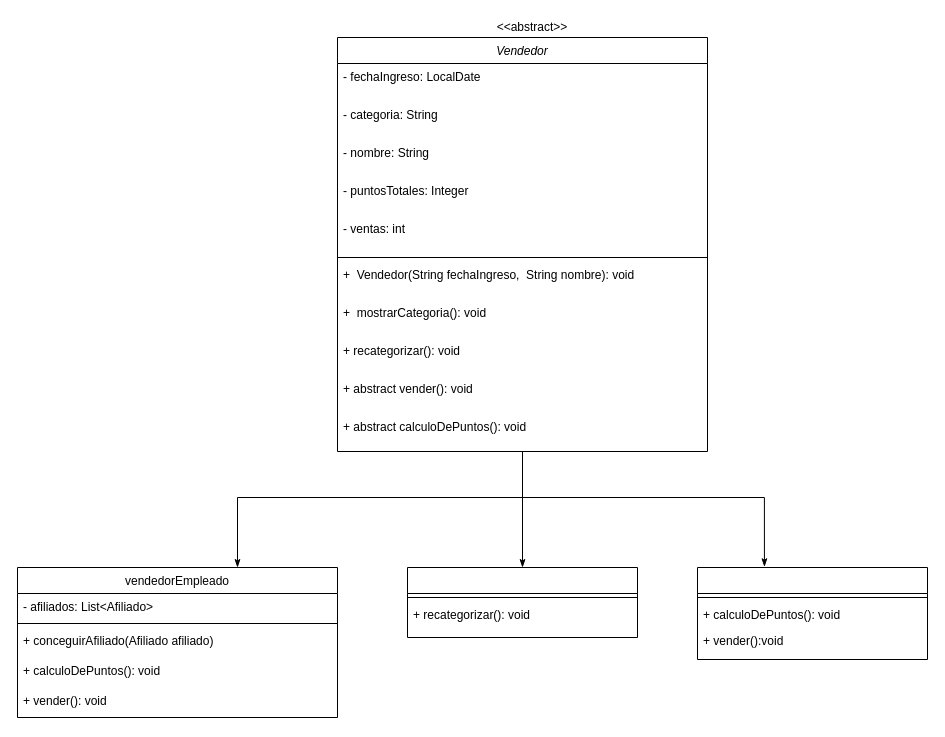
The diagram is 945 pixels wide and 737 high, and some of its shapes have lost their labels. The box of each missing label's shape, as (x1, y1, x2, y2) in pixels:
VendedorAfiliado: (696, 566, 928, 660)
VendedorPasante: (406, 566, 638, 638)
